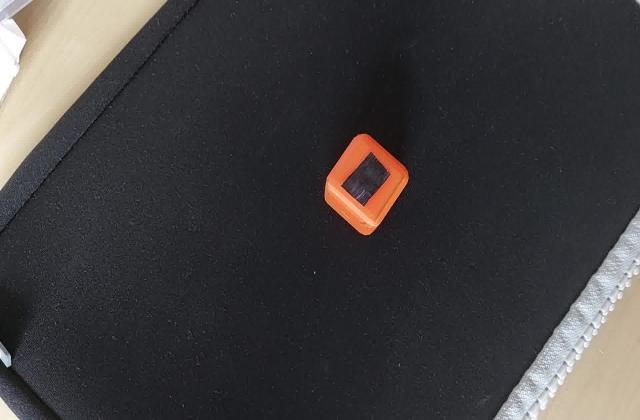black: (343, 156, 392, 209)
sticker: (322, 130, 412, 238)
